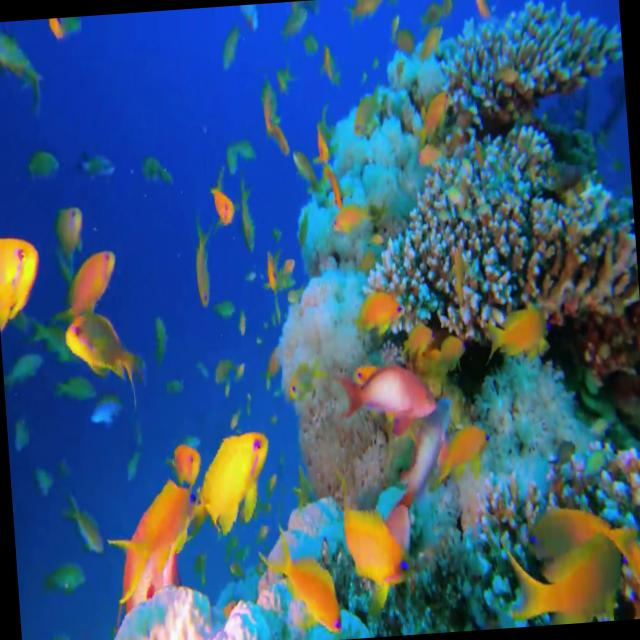fish: (501, 529, 632, 628), (387, 394, 464, 544), (115, 480, 203, 596), (187, 432, 276, 543), (340, 364, 438, 424), (58, 248, 122, 332), (62, 310, 134, 384), (484, 306, 550, 358), (190, 218, 214, 306)
